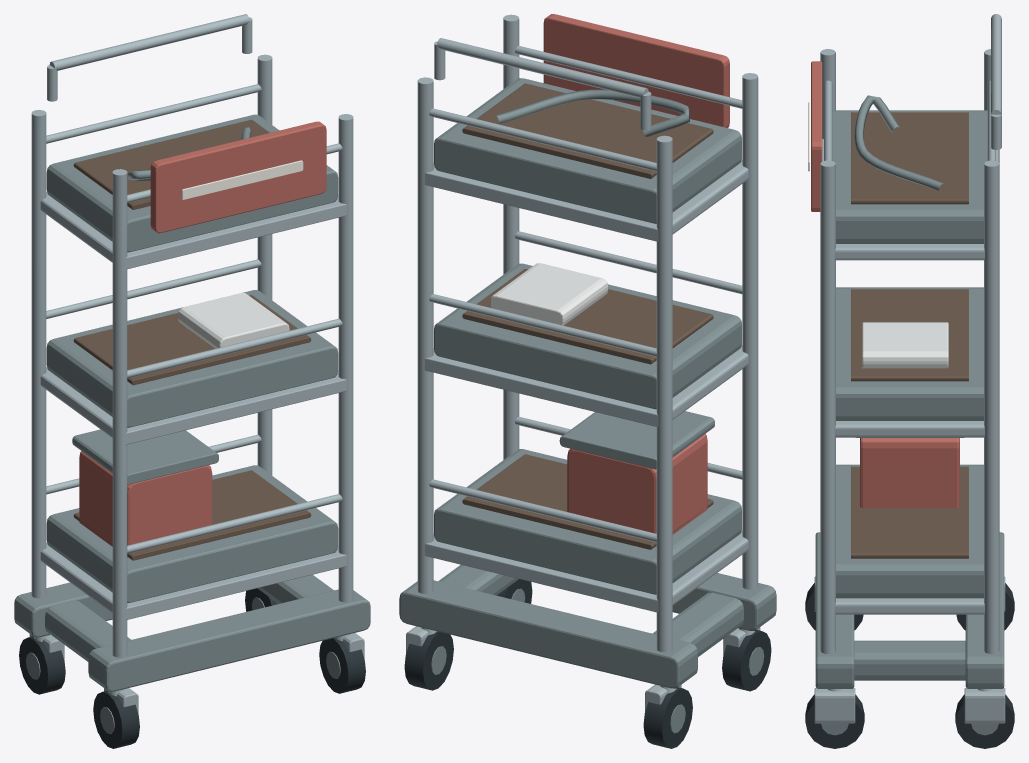
The model's file is soiled-equipment-rack.glb.
3 renders of one model, left to right at view 1: azimuth 30°, elevation 25°; view 2: azimuth 150°, elevation 25°; view 3: azimuth 270°, elevation 25°, orthographic. The views are drawn at different scales.
Visible parts, largest first — view 1: soiled-equipment-rack-batch (×5), soiled-equipment-rack; view 2: soiled-equipment-rack-batch (×5), soiled-equipment-rack; view 3: soiled-equipment-rack-batch (×5), soiled-equipment-rack.
Part boxes in pixels (x1,y1,x2,y2): soiled-equipment-rack-batch (×5): [14, 14, 370, 748]; soiled-equipment-rack: [178, 160, 303, 348]; soiled-equipment-rack-batch (×5): [399, 14, 776, 748]; soiled-equipment-rack: [490, 263, 608, 325]; soiled-equipment-rack-batch (×5): [805, 14, 1014, 748]; soiled-equipment-rack: [808, 102, 948, 368].
Size of the model in its own units: 0.68 by 1.52 by 0.46.
